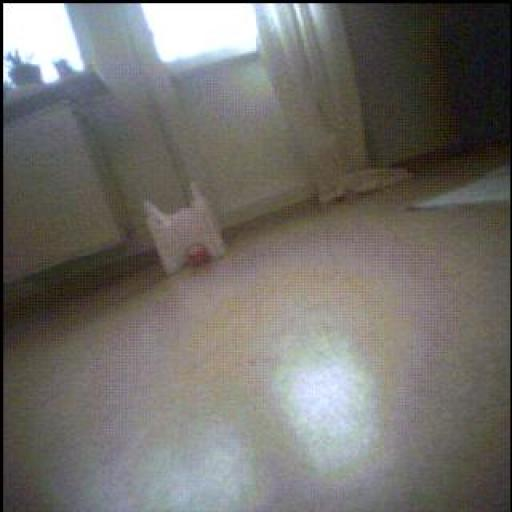Basket: (188, 246, 212, 268)
